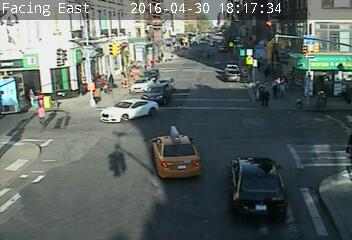neg: (4, 161, 37, 205), (103, 144, 135, 187), (69, 11, 99, 51), (114, 17, 144, 56), (74, 90, 96, 119), (238, 14, 259, 42), (264, 139, 285, 166), (303, 135, 323, 161), (213, 129, 231, 154), (73, 153, 91, 177), (122, 88, 138, 110), (183, 30, 199, 52), (160, 124, 174, 142), (164, 81, 170, 90)
pos: (242, 73, 276, 118), (263, 67, 292, 106), (32, 104, 50, 128)
